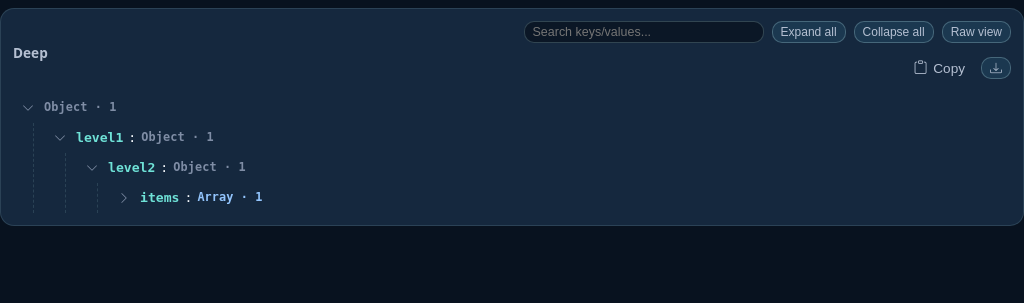
Scenario: JSON tree controls › opens a nested collapsed array via its own toggle
The image size is (1024, 303).
Click the 4th button with class "toggle-button": (124, 198) [113,186,135,210]
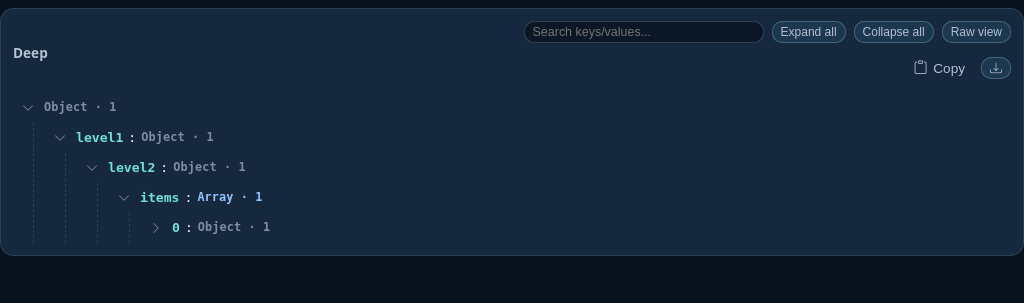
Click the 5th button with class "toggle-button": (156, 228) [145,216,167,240]
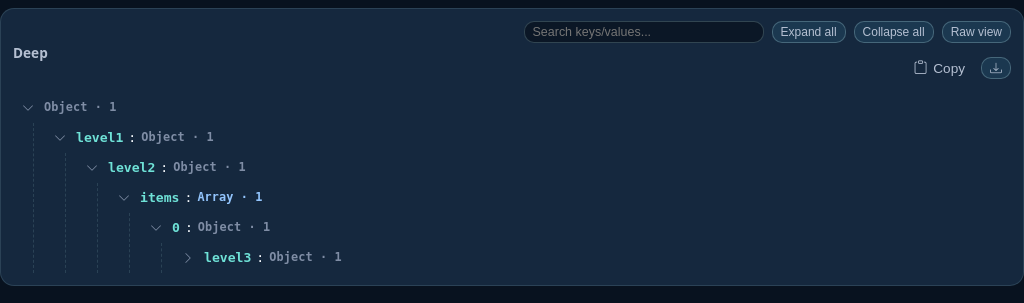
Result: the text "level3" is shown at [204,248,251,268]
